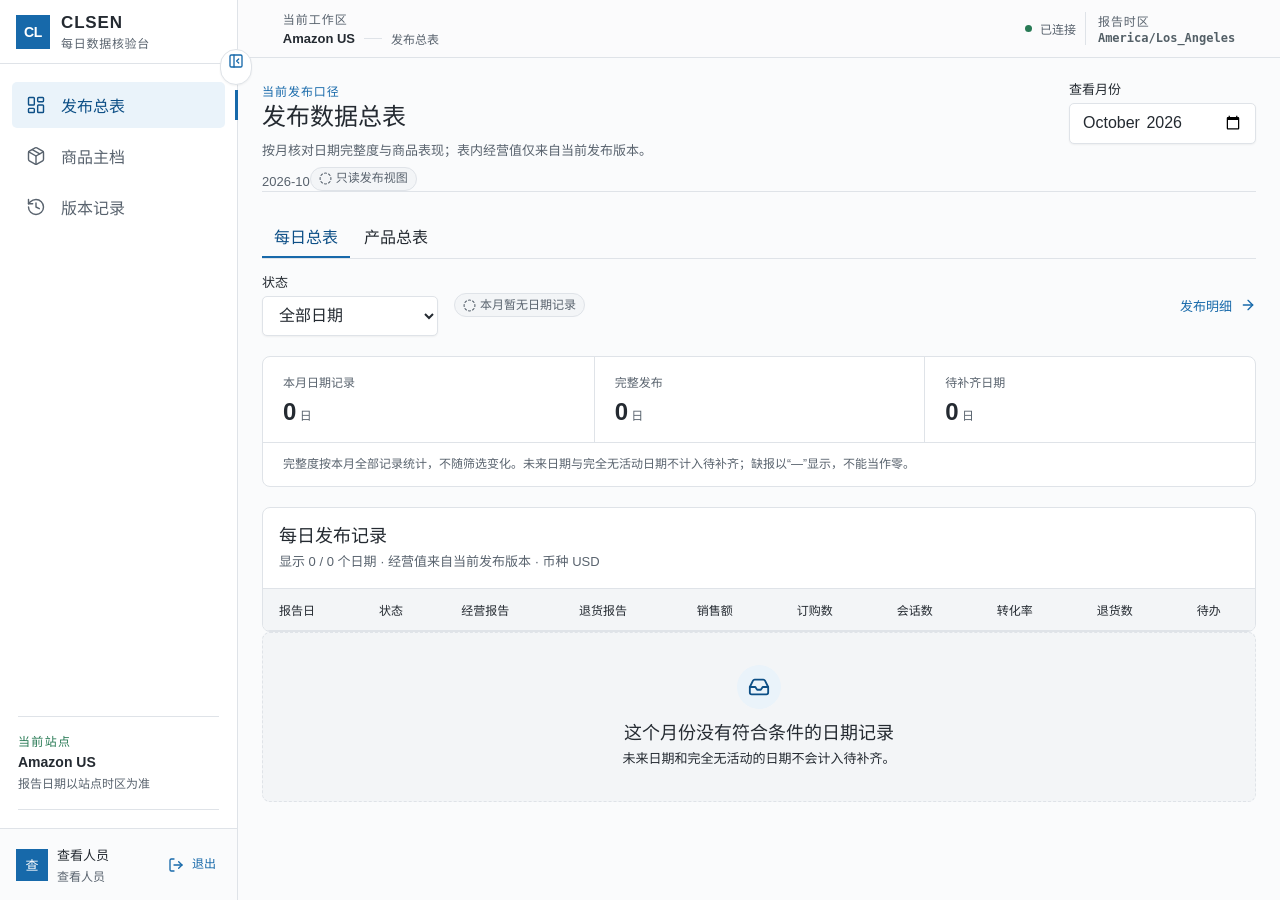
Test: App › 在服务端 500时保留仍然有效的会话并允许重试
This screenshot has width=1280, height=900.
Expected: the heading "发布数据总表" is shown, [262,103,406,130]
Click the button "退出": (192, 864) [163,846,221,882]
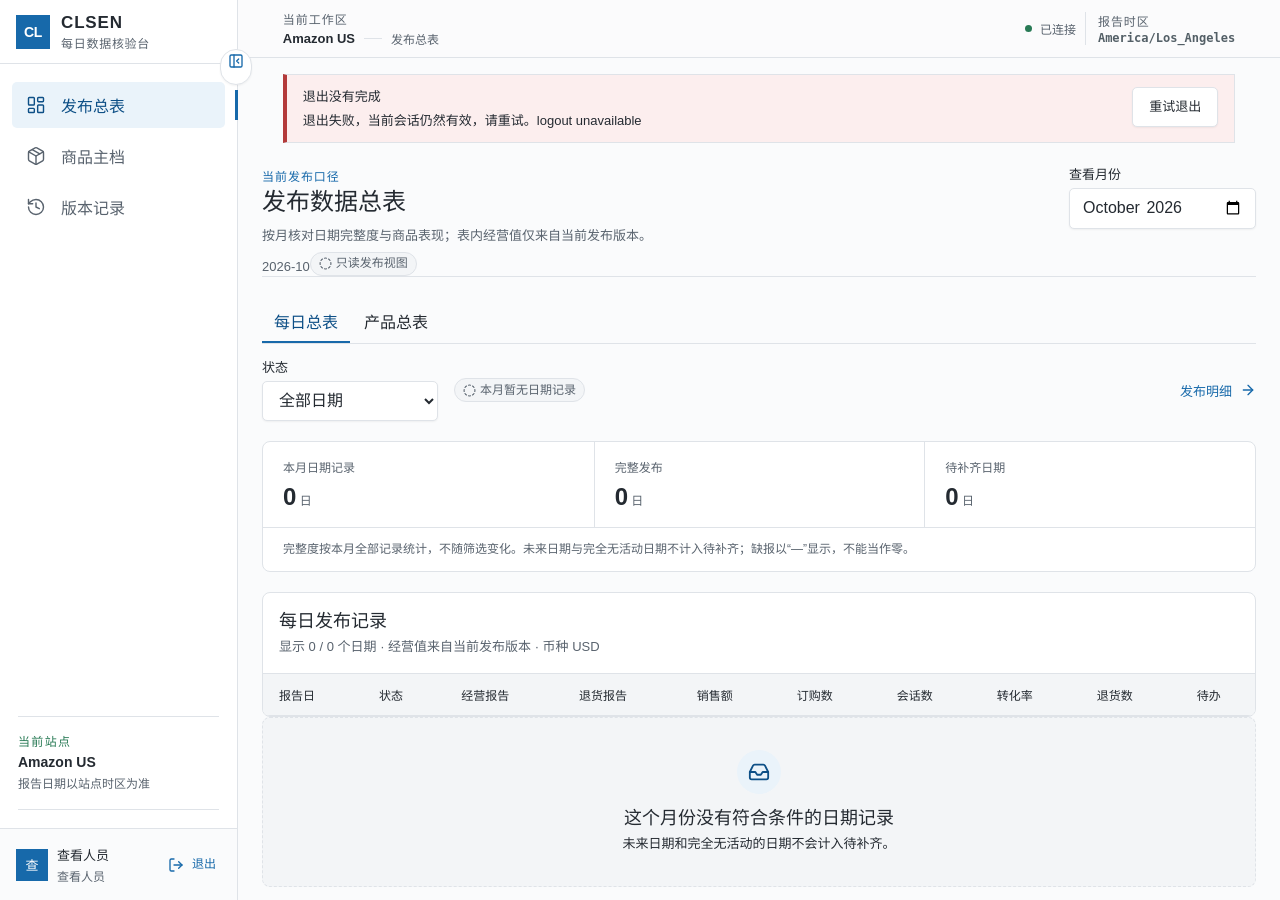
Expected: the 1st text "查看人员" is shown, [57,848,109,863]
Expected: the message shows "退出失败，当前会话仍然有效，请重试。", [303,112,642,128]
